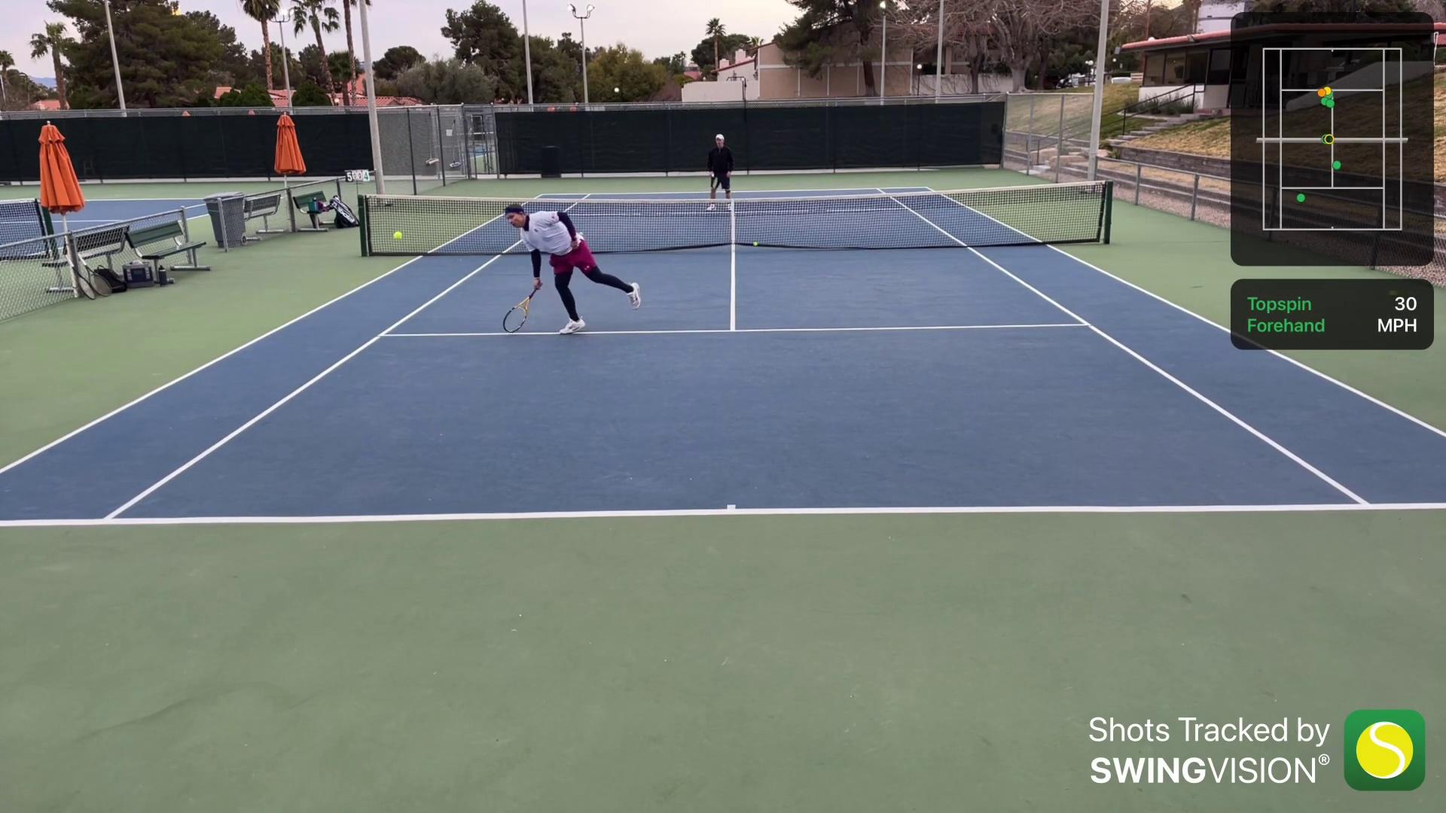ball: (392, 231, 402, 241), (752, 240, 759, 248)
